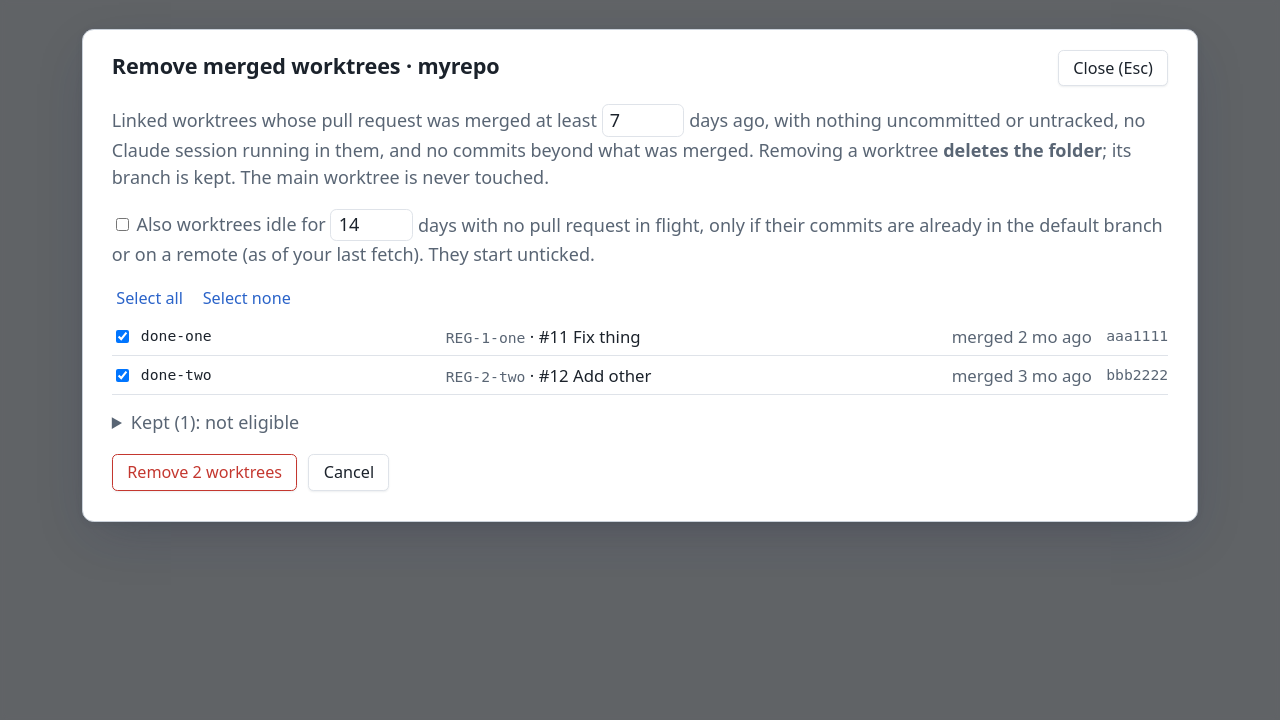
Test: WorktreeCleanupModal › shows an error if the request fails and keeps the list
Click the button "Remove 2 worktrees".
click(205, 473)  # box [112,454,298,491]
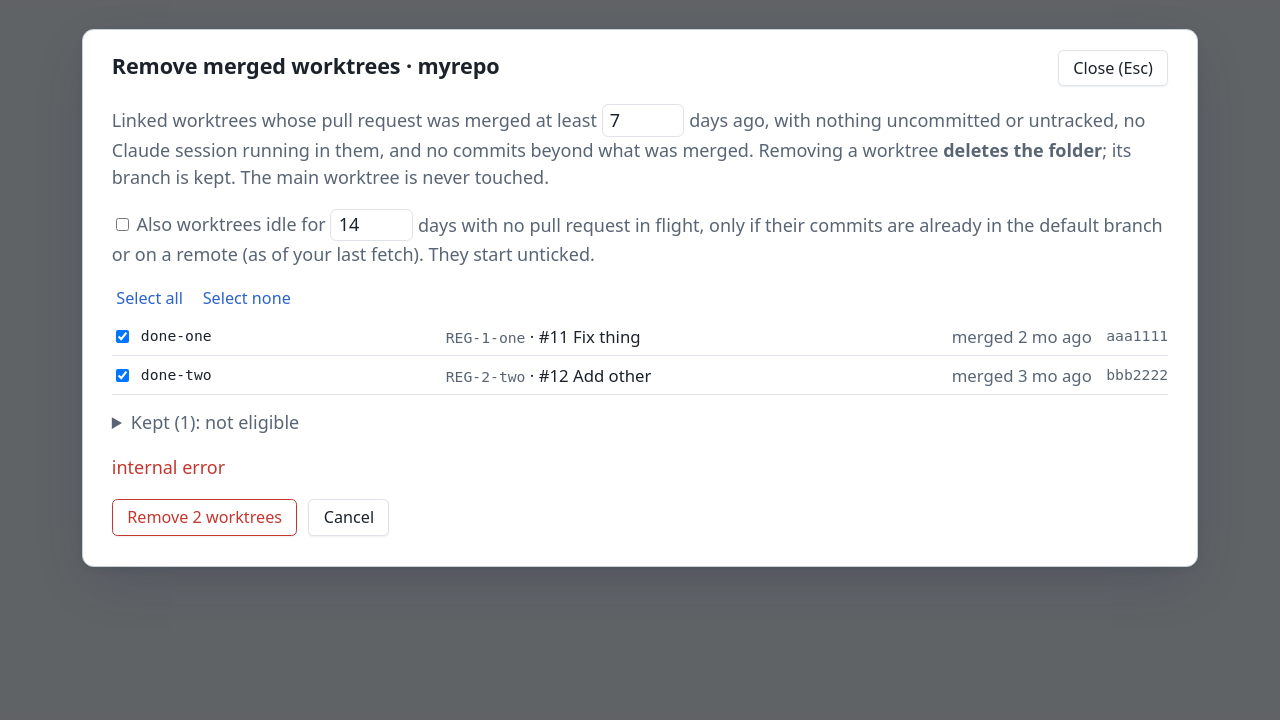
Expected: the text "internal error" is shown, [112,455,225,479]
